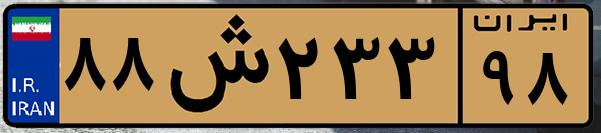2: (270, 28, 330, 110)
3: (385, 28, 445, 110), (330, 28, 385, 110)
8: (57, 26, 110, 100), (525, 38, 570, 115), (110, 28, 158, 98)
9: (475, 38, 525, 113)
ش: (158, 12, 270, 120)
